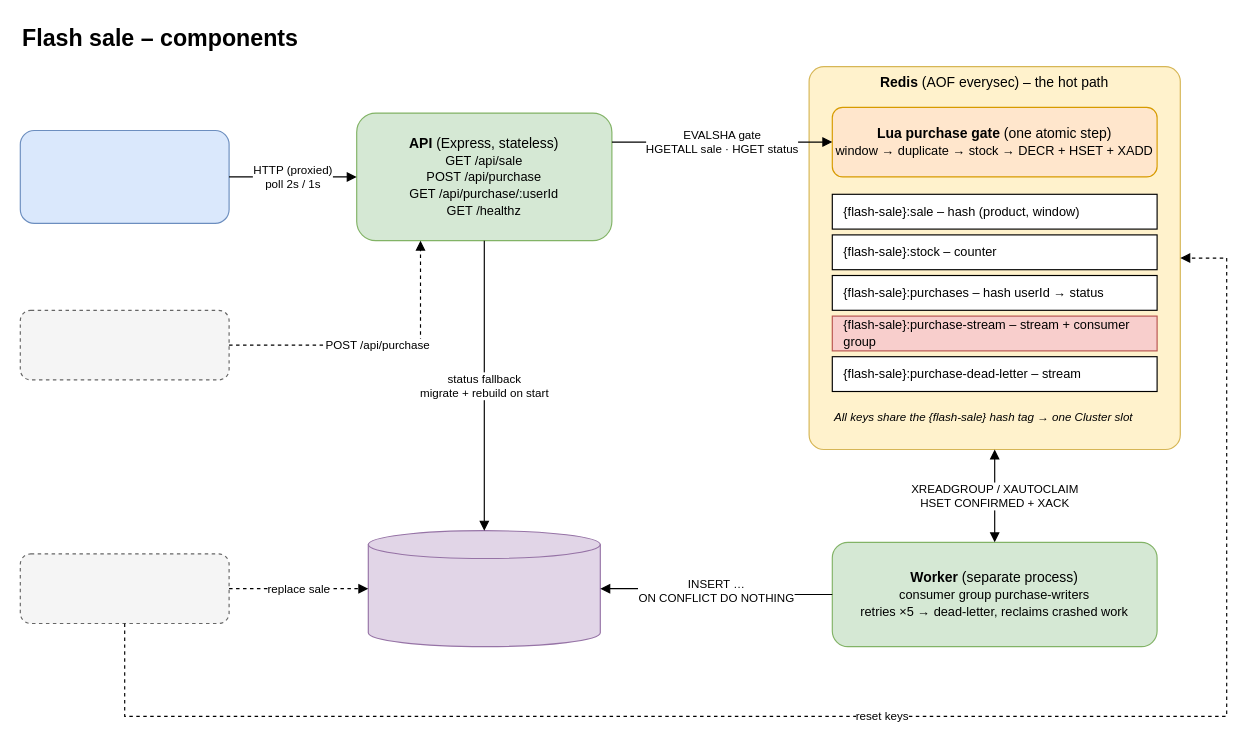
This 1256x746 diagram has some shape labels left out. The centre of each missing label's shape, as x and y in pixels:
k6 (Docker) 6,000-request burst: (x=124, y=344)
pnpm sale:setup stock, window, product: (x=124, y=588)
Postgres (durable record) sales, purchases UNIQUE (sale_id, user_id): (x=483, y=588)
Web app React + Vite product card, buy, status: (x=124, y=176)
